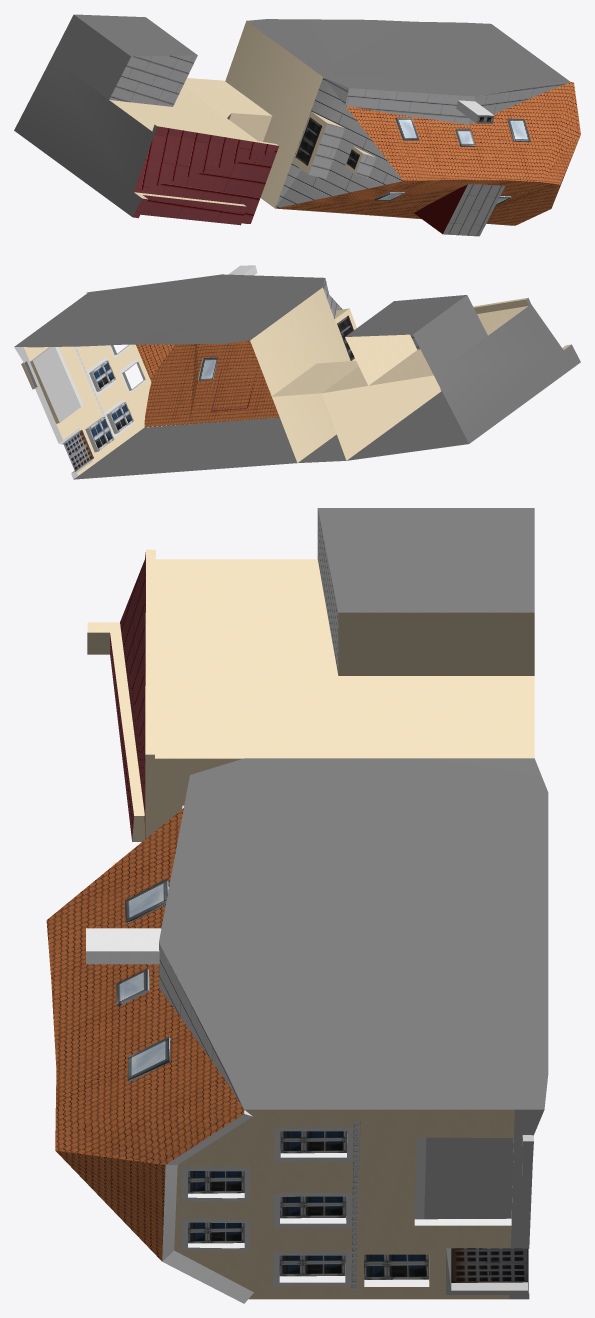
The model's file is Rataskaevu_8.obj.
3 views of the same model, one above another, from view 1: azimuth 30°, elevation 25°; view 2: azimuth 150°, elevation 25°; view 3: azimuth 270°, elevation 25° (orthographic). The views are drawn at different scales.
Parts seen in each view (by area): view 1: Rataskaevu_8; view 2: Rataskaevu_8; view 3: Rataskaevu_8.
Boxes of the visible parts, x1,y1,x2,y2 form: Rataskaevu_8: [14, 14, 580, 236]; Rataskaevu_8: [14, 265, 580, 479]; Rataskaevu_8: [46, 508, 548, 1303].
Size of the model in its own units: 32.18 by 15.53 by 15.35.
